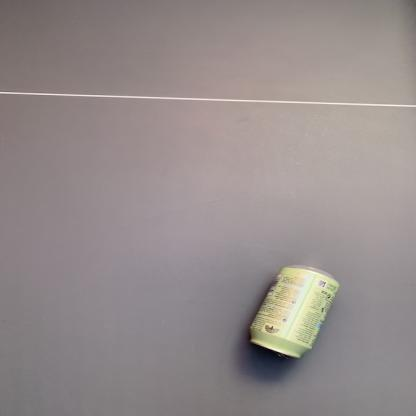trash: (241, 262, 346, 367)
